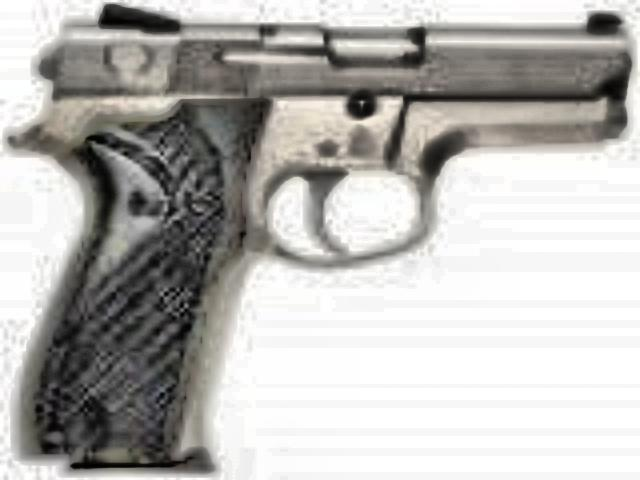pistol: (12, 8, 624, 464)
